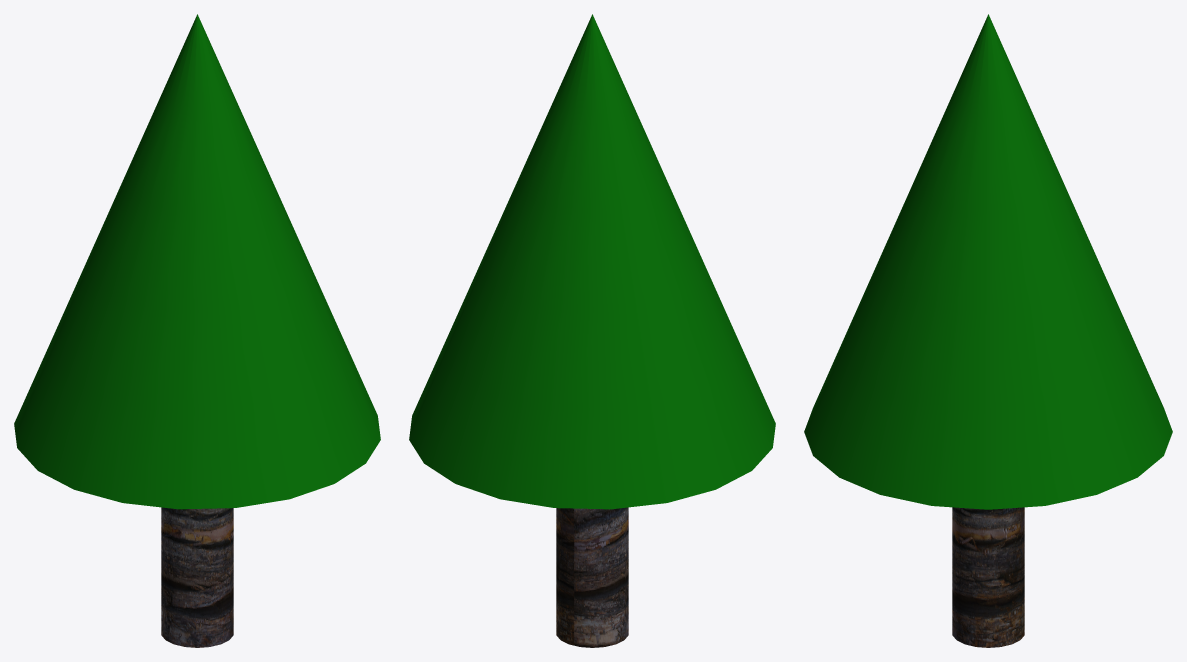
Rendered from wood.fbx.
3 views of the same model, side by side, from view 1: azimuth 30°, elevation 25°; view 2: azimuth 150°, elevation 25°; view 3: azimuth 270°, elevation 25° (orthographic).
Parts seen in each view (by area): view 1: Cone001, Cylinder001; view 2: Cone001, Cylinder001; view 3: Cone001, Cylinder001.
Boxes of the visible parts, x1=… form: Cone001: x1=14, y1=14, x2=380, y2=509; Cylinder001: x1=161, y1=507, x2=233, y2=647; Cone001: x1=409, y1=14, x2=775, y2=509; Cylinder001: x1=556, y1=507, x2=628, y2=647; Cone001: x1=804, y1=14, x2=1172, y2=509; Cylinder001: x1=952, y1=507, x2=1024, y2=647.
Bounding box in the file's own units: 100 × 185 × 100.
